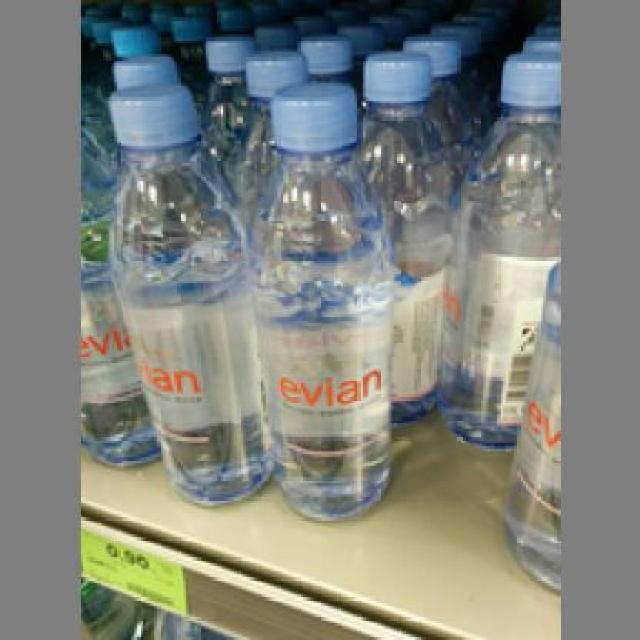Water: (98, 74, 272, 506), (248, 77, 394, 520), (428, 48, 554, 444)
